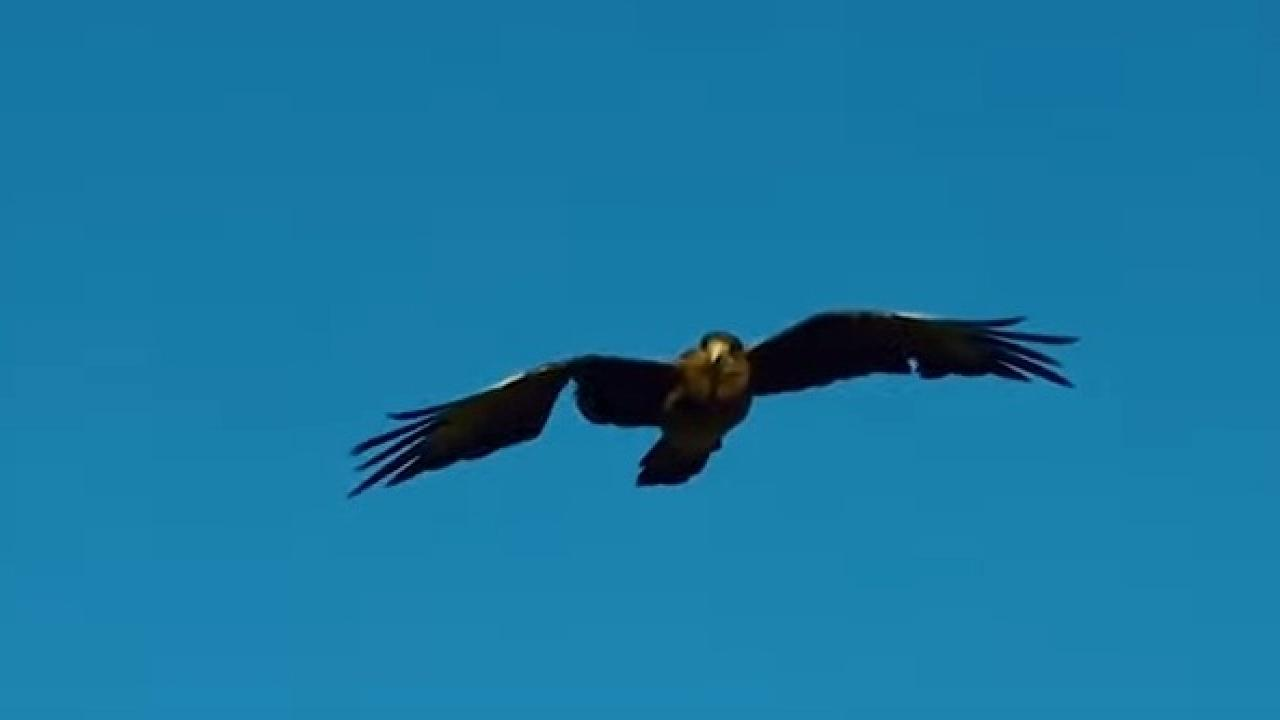Bird: (339, 298, 1087, 511)
